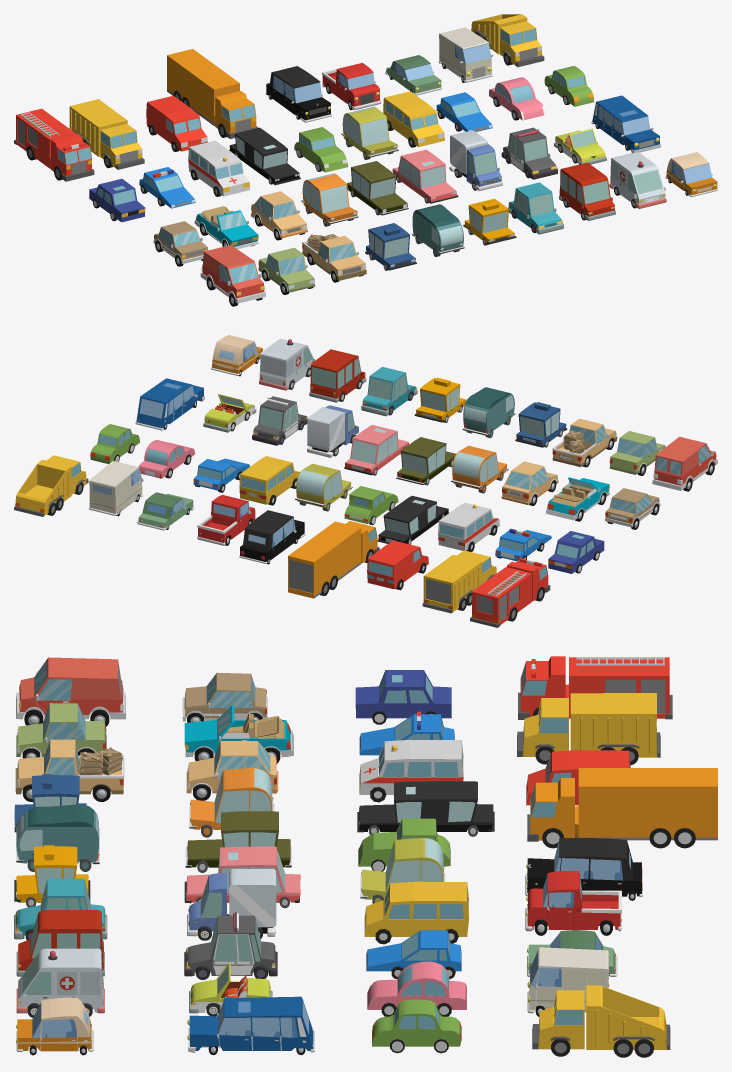
File: 39_low_poly_vehicle_free.glb
3 views of the same model, one above another, from view 1: azimuth 30°, elevation 25°; view 2: azimuth 150°, elevation 25°; view 3: azimuth 270°, elevation 25° (orthographic). The views are drawn at different scales.
Parts seen in each view (by area): view 1: yellow_truck, Cube.012, yellow_big_truck2, red_van, yellow_big_truck, blue_minivan, van.001, black_lemusine, ambulance, ambulance2, space_wagon, van2 (+27 smaller); view 2: yellow_truck, Cube.012, yellow_big_truck2, yellow_big_truck, red_van, black_lemusine, blue_minivan, white_van, van.001, ambulance, van2, ambulance2 (+27 smaller); view 3: yellow_truck, yellow_big_truck2, yellow_big_truck, Cube.012, blue_minivan, red_van, limusin, space_wagon, black_lemusine, red_truck, ambulance, ambulance2 (+27 smaller).
Part boxes in pixels (left/top/right/bottom): yellow_truck: left=167, top=49, right=258, bottom=138; Cube.012: left=14, top=108, right=94, bottom=181; yellow_big_truck2: left=69, top=99, right=144, bottom=169; red_van: left=200, top=245, right=265, bottom=306; yellow_big_truck: left=471, top=14, right=544, bottom=67; blue_minivan: left=591, top=95, right=660, bottom=152; van.001: left=559, top=162, right=615, bottom=220; black_lemusine: left=266, top=66, right=331, bottom=122; ambulance: left=609, top=152, right=666, bottom=208; ambulance2: left=188, top=140, right=249, bottom=196; space_wagon: left=383, top=91, right=444, bottom=147; van2: left=146, top=95, right=207, bottom=151; yellow_truck: left=288, top=521, right=379, bottom=598; Cube.012: left=470, top=558, right=550, bottom=627; yellow_big_truck2: left=422, top=550, right=496, bottom=613; yellow_big_truck: left=14, top=455, right=88, bottom=516; red_van: left=652, top=436, right=717, bottom=491; black_lemusine: left=239, top=510, right=305, bottom=564; blue_minivan: left=135, top=378, right=204, bottom=430; white_van: left=89, top=461, right=143, bottom=516; van.001: left=309, top=349, right=366, bottom=402; ambulance: left=259, top=339, right=314, bottom=390; van2: left=367, top=540, right=428, bottom=590; ambulance2: left=438, top=503, right=499, bottom=551; yellow_truck: left=527, top=768, right=717, bottom=848; yellow_big_truck2: left=517, top=693, right=660, bottom=764; yellow_big_truck: left=532, top=985, right=670, bottom=1057; Cube.012: left=518, top=656, right=672, bottom=719; blue_minivan: left=187, top=996, right=314, bottom=1055; red_van: left=16, top=657, right=125, bottom=726; limusin: left=357, top=781, right=494, bottom=836; space_wagon: left=364, top=881, right=468, bottom=944; black_lemusine: left=525, top=838, right=642, bottom=900; red_truck: left=525, top=871, right=621, bottom=935; ambulance: left=16, top=948, right=104, bottom=1017; ambulance2: left=359, top=739, right=463, bottom=802.
Size of the model in its own units: 37.89 by 3.1 by 32.08.
